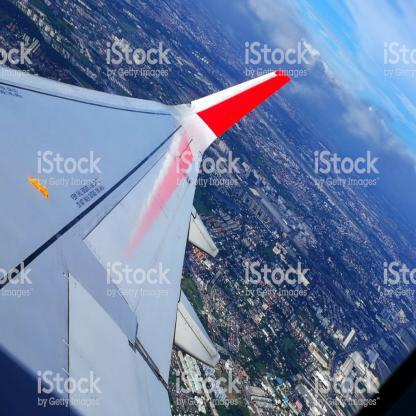CIV_Plane: (0, 59, 296, 411)
